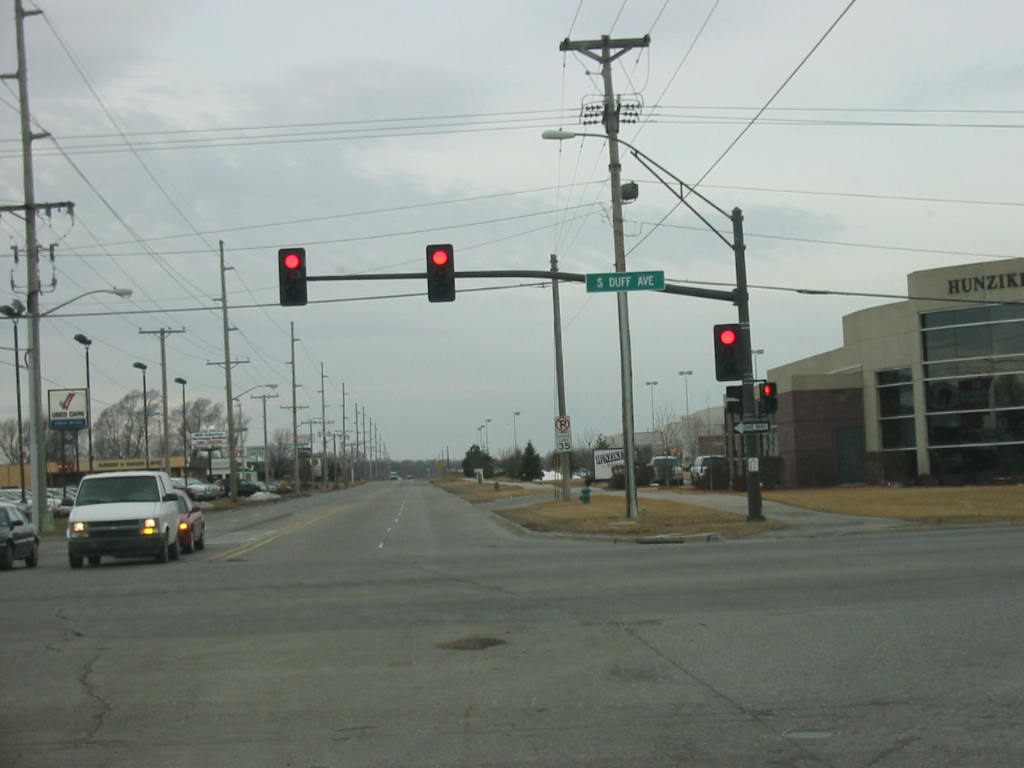traffic_light: (711, 322, 747, 383), (276, 246, 310, 308), (424, 242, 458, 304)
